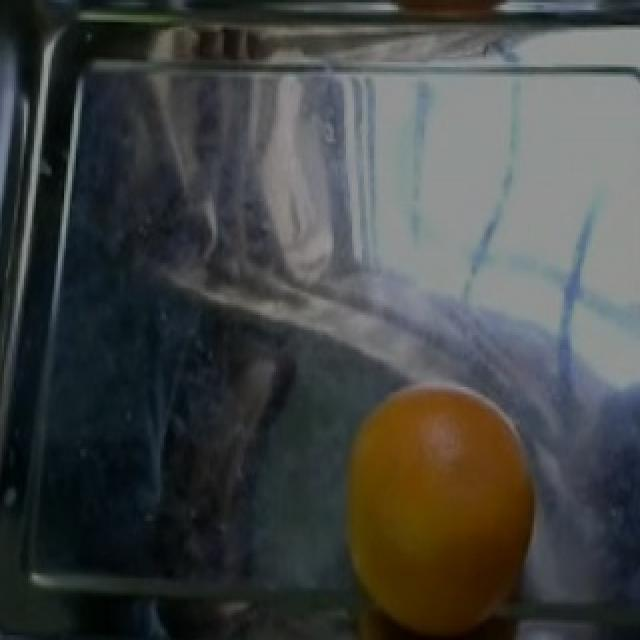Fruit: (318, 370, 560, 638)
